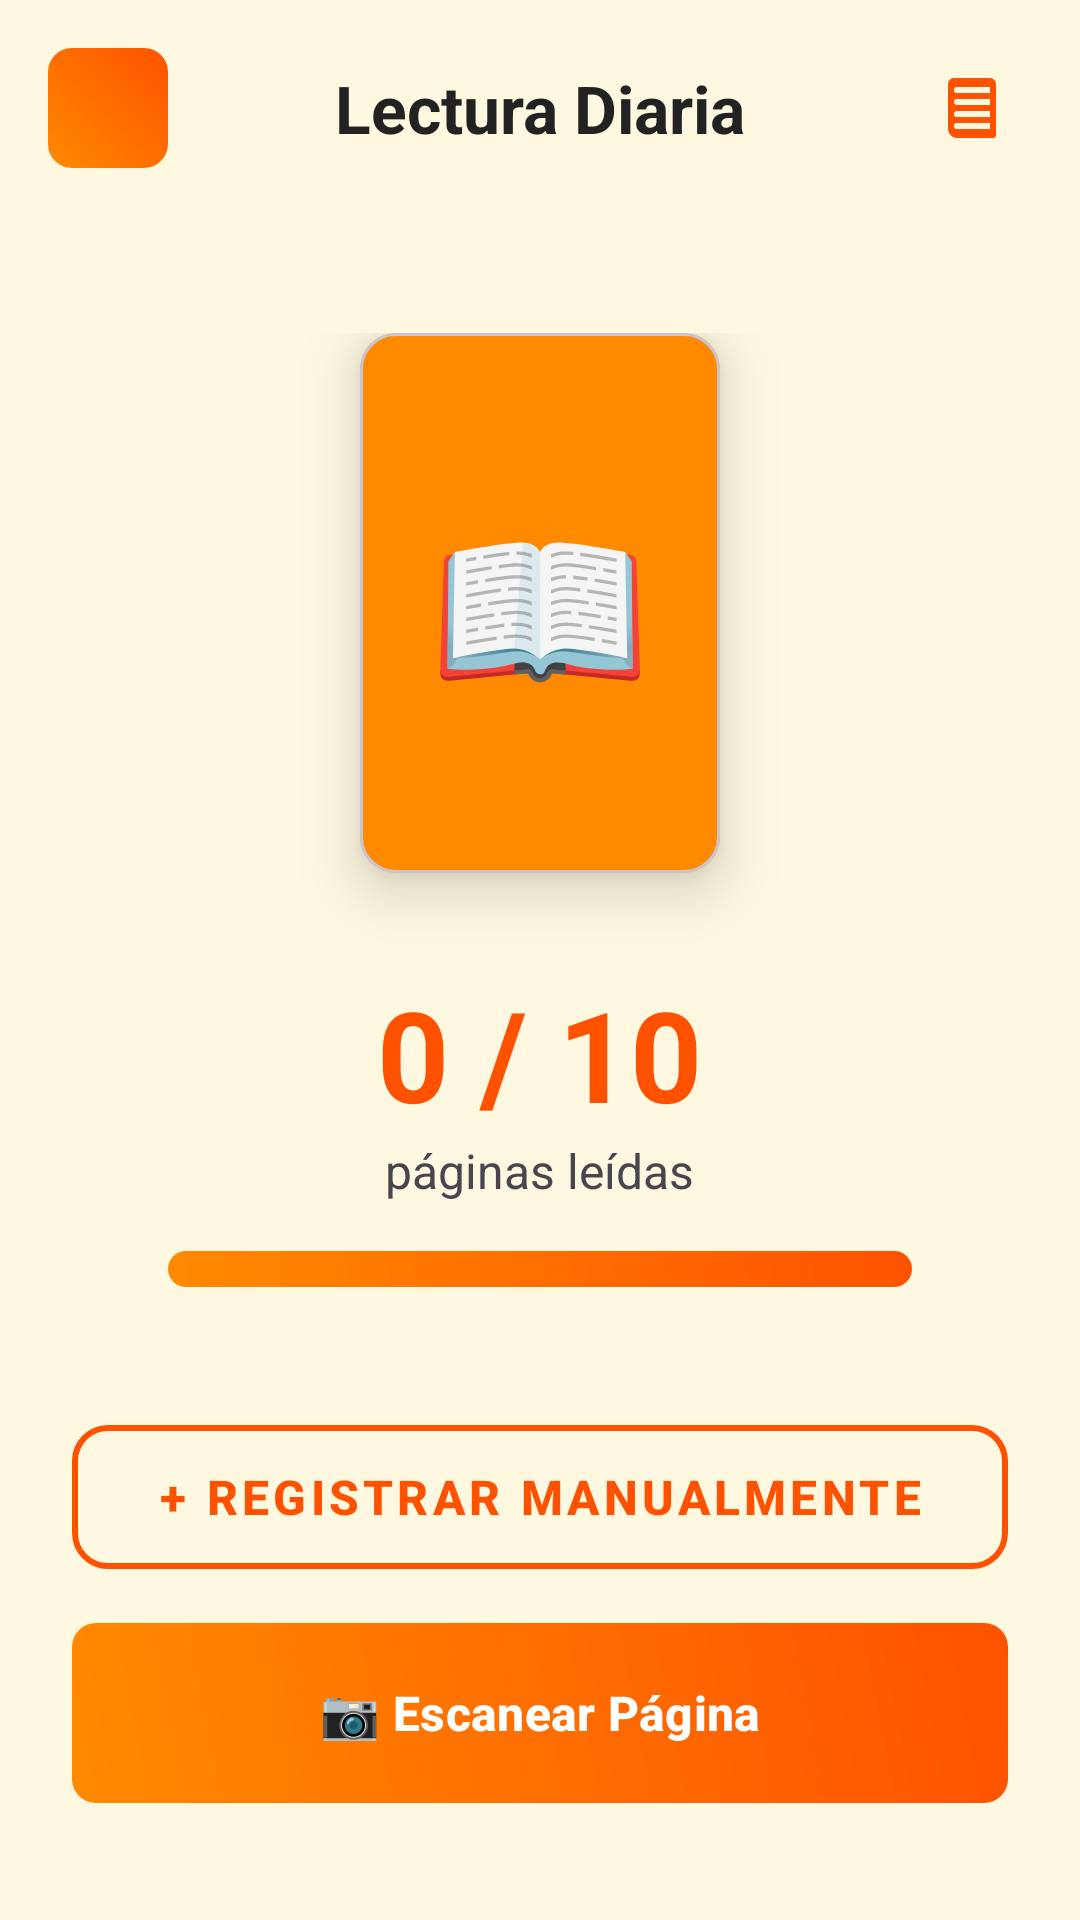

Where to tap for icons on this 1080*1920 app screen, as point (x, y):
Ver historial de notas: point (972, 108)
